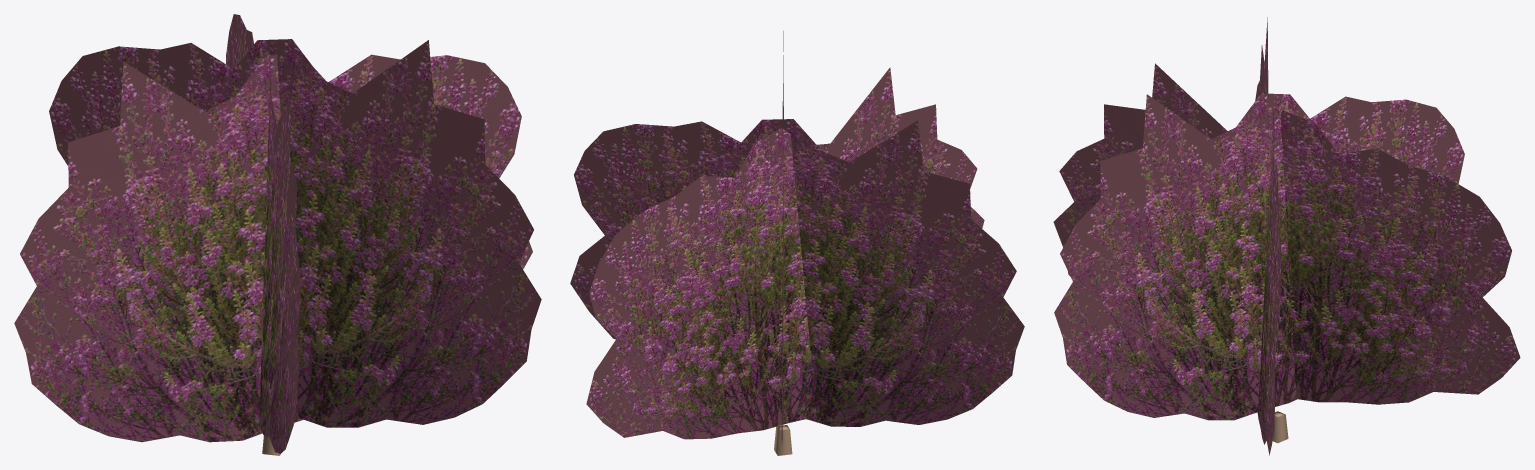
Rendered from under_heather.glb.
3 views of the same model, side by side, from view 1: azimuth 30°, elevation 25°; view 2: azimuth 150°, elevation 25°; view 3: azimuth 270°, elevation 25° (orthographic). The views are drawn at different scales.
Visible parts, largest first — view 1: leaf; view 2: leaf, woodBark; view 3: leaf.
Boxes of the visible parts, bbox=[...] form: leaf: bbox=[14, 14, 541, 453]; leaf: bbox=[570, 31, 1024, 444]; woodBark: bbox=[774, 425, 792, 455]; leaf: bbox=[1053, 17, 1520, 455].
Bounding box in the file's own units: 0.9569 × 0.7728 × 0.8693.
2 materials, 1 textured.
